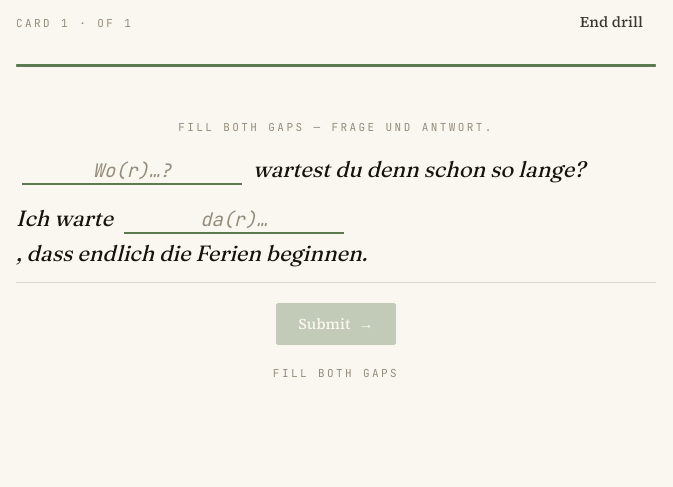
DialogueRunner — smoke tests › shows success feedback when both slots are correct
In the field with class "dlg-gap-input" showing "Wo(r)…?": point(132, 171) [22,158,242,185], type "Worauf"
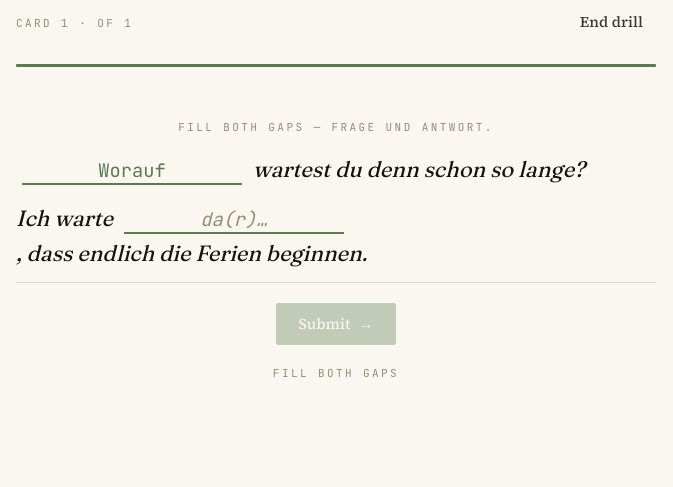
In the field with class "dlg-gap-input" showing "da(r)…": point(234, 220) [124,207,344,234], type "darauf"
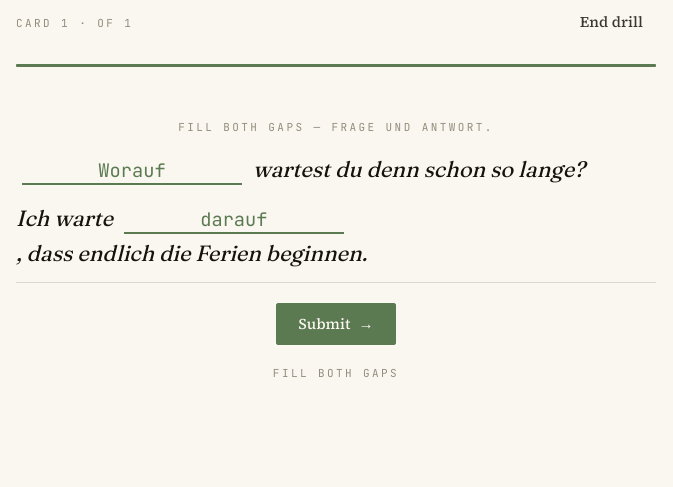
Click the button "Submit →": point(336, 324) [276,303,396,345]
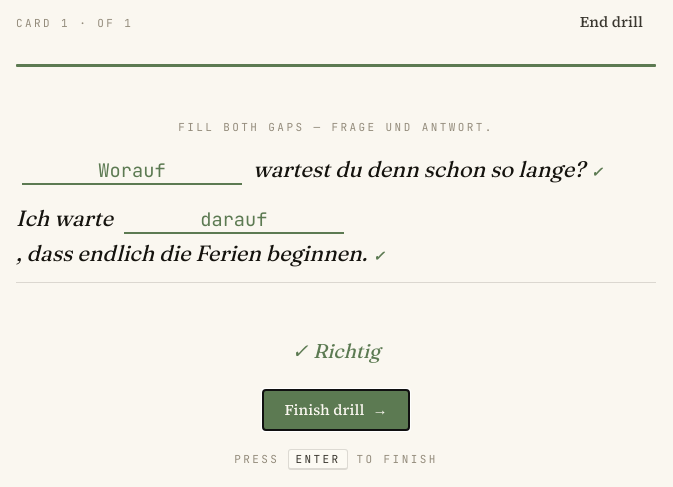
Now the text "✓ Richtig" is shown, box [292,335,380,367]
